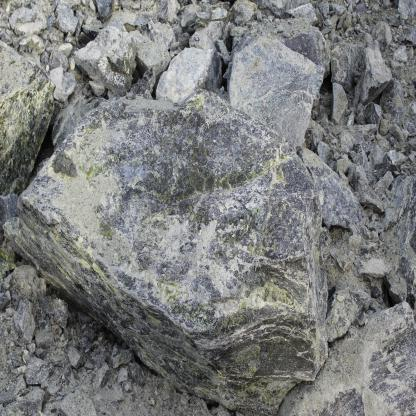stone: (2, 91, 329, 415), (228, 37, 327, 148), (0, 40, 55, 198), (299, 148, 370, 230), (74, 27, 137, 94), (156, 47, 222, 102), (325, 285, 364, 342), (361, 41, 392, 103), (3, 266, 46, 307), (330, 42, 363, 92), (355, 164, 384, 215), (1, 387, 45, 416), (367, 149, 399, 187), (13, 299, 36, 343), (49, 67, 75, 105), (54, 0, 79, 34), (25, 356, 54, 385), (286, 2, 318, 26), (331, 83, 348, 124), (52, 295, 72, 328), (108, 343, 132, 369), (372, 21, 392, 52), (373, 171, 394, 198), (364, 101, 382, 131), (82, 16, 103, 39), (181, 5, 202, 27), (93, 0, 114, 20), (130, 362, 146, 387), (51, 47, 68, 70), (215, 39, 230, 65), (97, 362, 111, 389), (67, 346, 84, 368), (35, 330, 55, 348), (398, 0, 416, 20), (400, 26, 416, 47), (194, 11, 213, 28), (368, 146, 383, 166), (355, 145, 368, 168), (389, 123, 405, 141), (88, 80, 106, 96), (317, 141, 330, 163), (40, 296, 54, 316), (347, 163, 357, 188), (117, 367, 129, 386), (211, 7, 227, 21), (76, 337, 93, 350), (112, 383, 124, 401), (77, 311, 92, 324), (38, 317, 51, 332), (361, 241, 376, 253), (379, 118, 389, 136), (0, 391, 13, 404), (404, 122, 416, 136), (84, 332, 99, 343), (34, 347, 46, 360), (0, 296, 10, 311), (334, 5, 346, 16), (321, 2, 329, 18), (22, 349, 30, 365), (328, 27, 336, 43), (122, 381, 133, 392), (356, 2, 367, 13), (282, 28, 294, 37), (327, 159, 336, 171), (64, 326, 71, 341), (254, 9, 262, 22), (27, 343, 35, 356), (84, 361, 94, 370), (372, 4, 382, 13), (390, 60, 400, 69), (371, 231, 379, 242), (5, 307, 13, 317), (41, 379, 48, 390), (379, 231, 386, 242), (365, 161, 371, 172), (348, 151, 356, 159), (348, 4, 353, 13), (372, 213, 376, 222)
